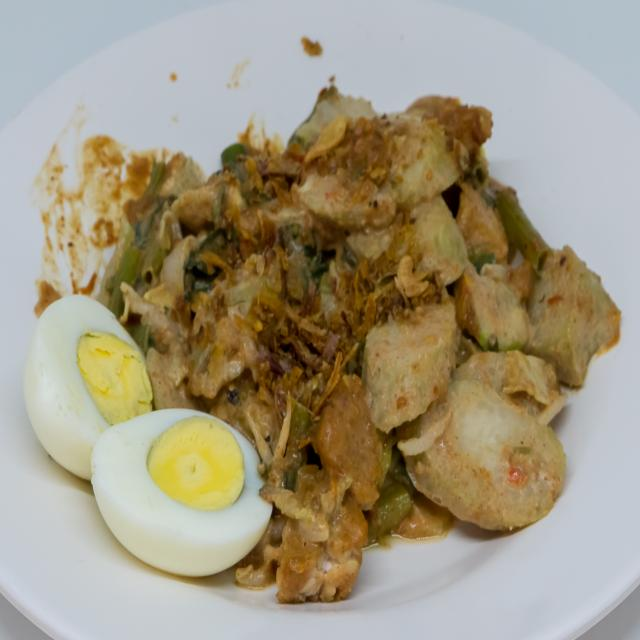Gado-Gado: (18, 71, 627, 616)
